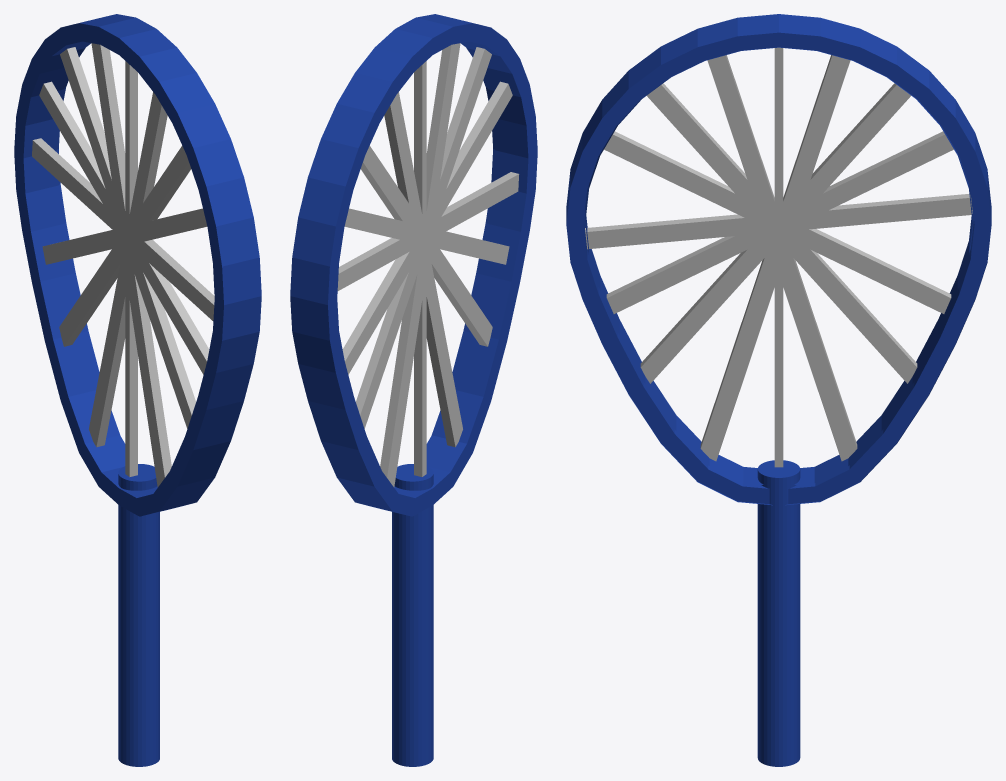
Rendered from tenis.gltf.
The picture shows the model from 3 angles, left to right: view 1: azimuth 30°, elevation 25°; view 2: azimuth 150°, elevation 25°; view 3: azimuth 270°, elevation 25°; orthographic projection.
Visible parts, largest first — view 1: Cylinder.001; view 2: Cylinder.001; view 3: Cylinder.001.
Boxes of the visible parts, left/top/right/bottom form: Cylinder.001: left=14, top=14, right=261, bottom=766; Cylinder.001: left=290, top=14, right=537, bottom=766; Cylinder.001: left=566, top=14, right=991, bottom=766.
Size of the model in its own units: 0.2104 by 3.81 by 2.
